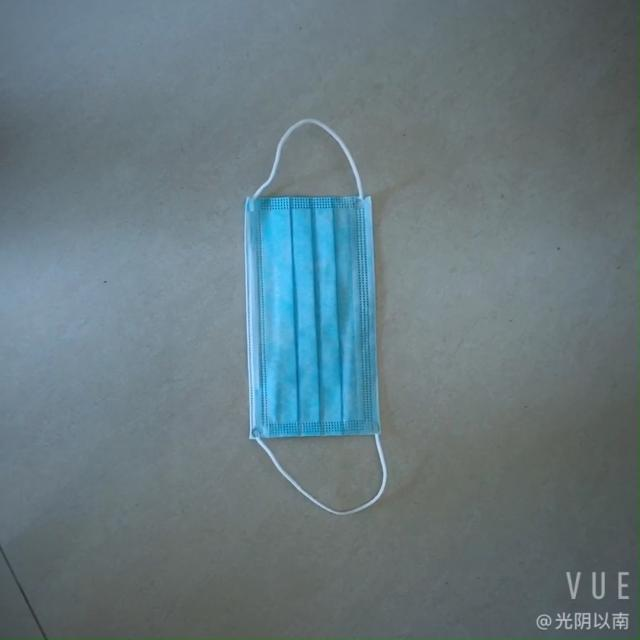face mask: (222, 172, 387, 463)
